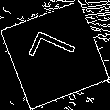L_SE: (25, 31, 85, 79)
